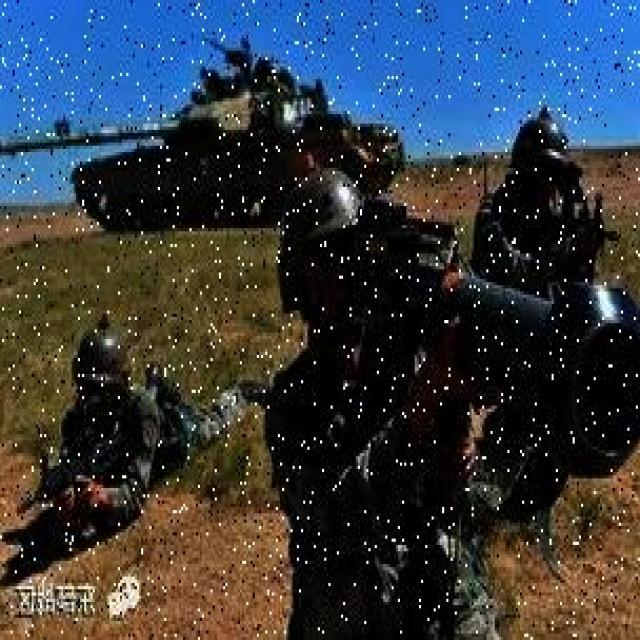fall: (52, 323, 250, 532)
